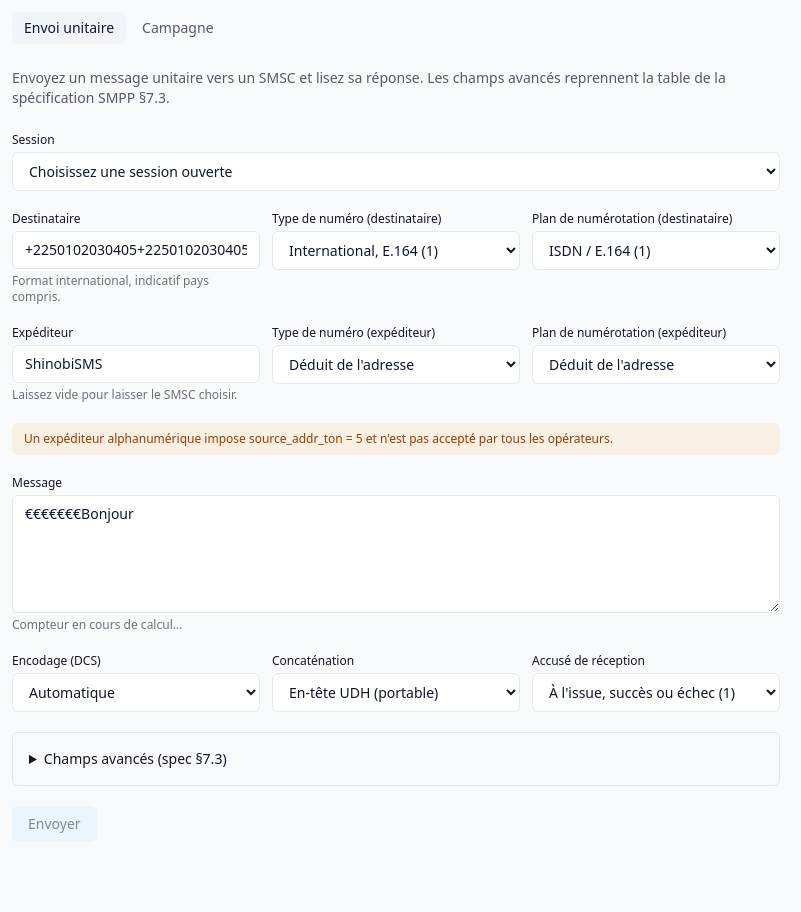
Test: Send › Simple › ignores an update about another message
The image size is (801, 912).
Select "Operator A — smsc.example.test:2775" in the dropdown labelled "Session". click: (396, 172)
box: x1=12 y1=152 x2=780 y2=191
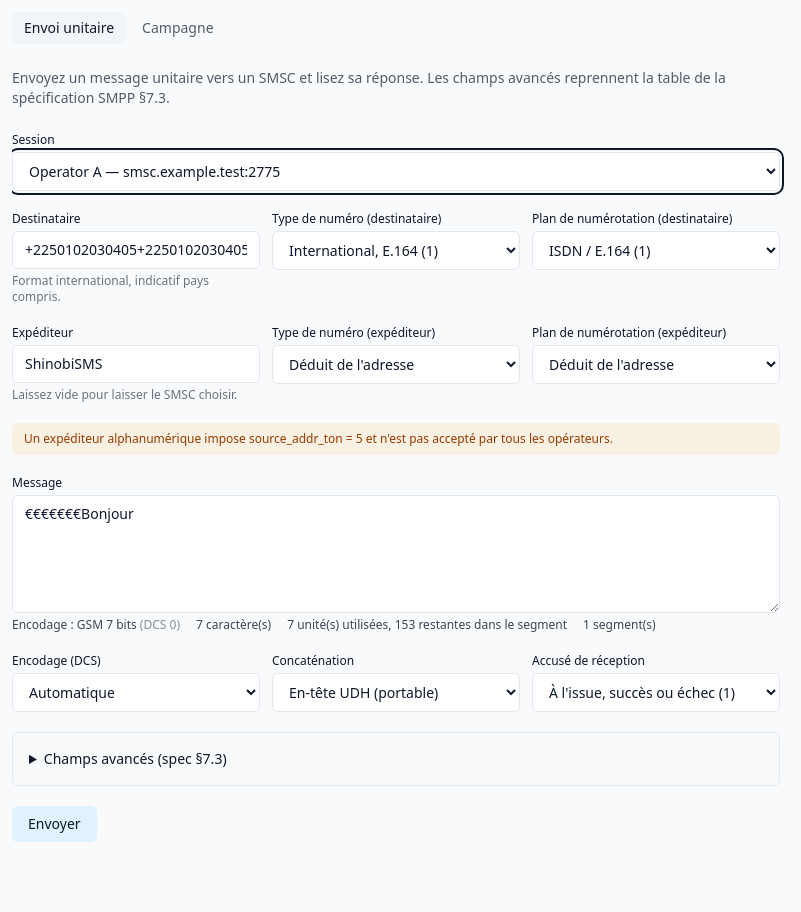
Type "+2250102030405" into the field labelled "Destinataire". click: (136, 250)
box: x1=12 y1=231 x2=260 y2=269
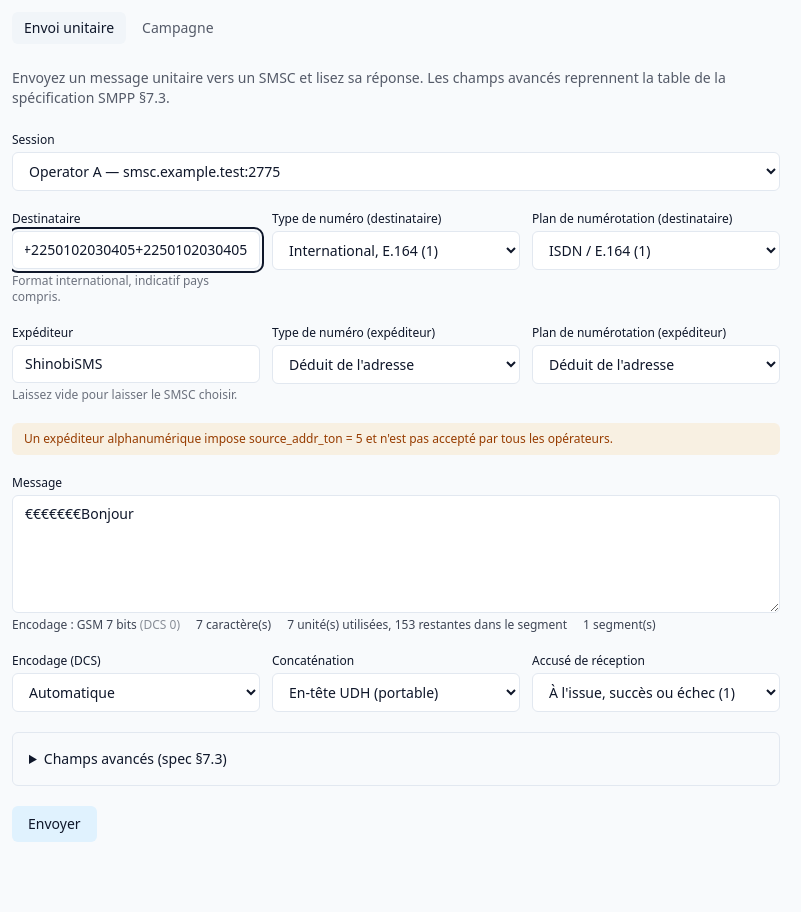
Click the button "Envoyer". click: (54, 824)
box: x1=12 y1=806 x2=97 y2=842
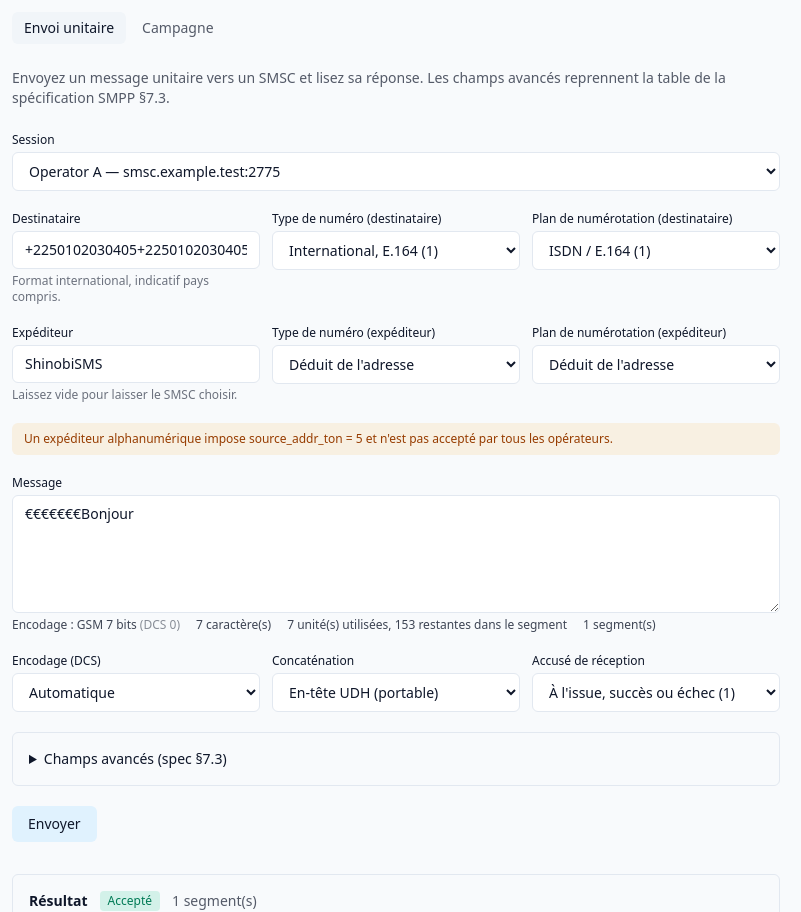
Now the text "Accepté" is shown, box x1=100 y1=891 x2=160 y2=911
